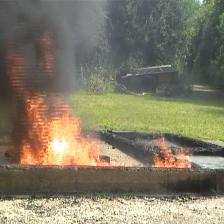fire: (2, 32, 127, 166), (151, 131, 192, 168)
